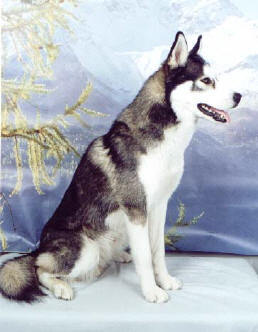dog: (0, 29, 243, 306)
